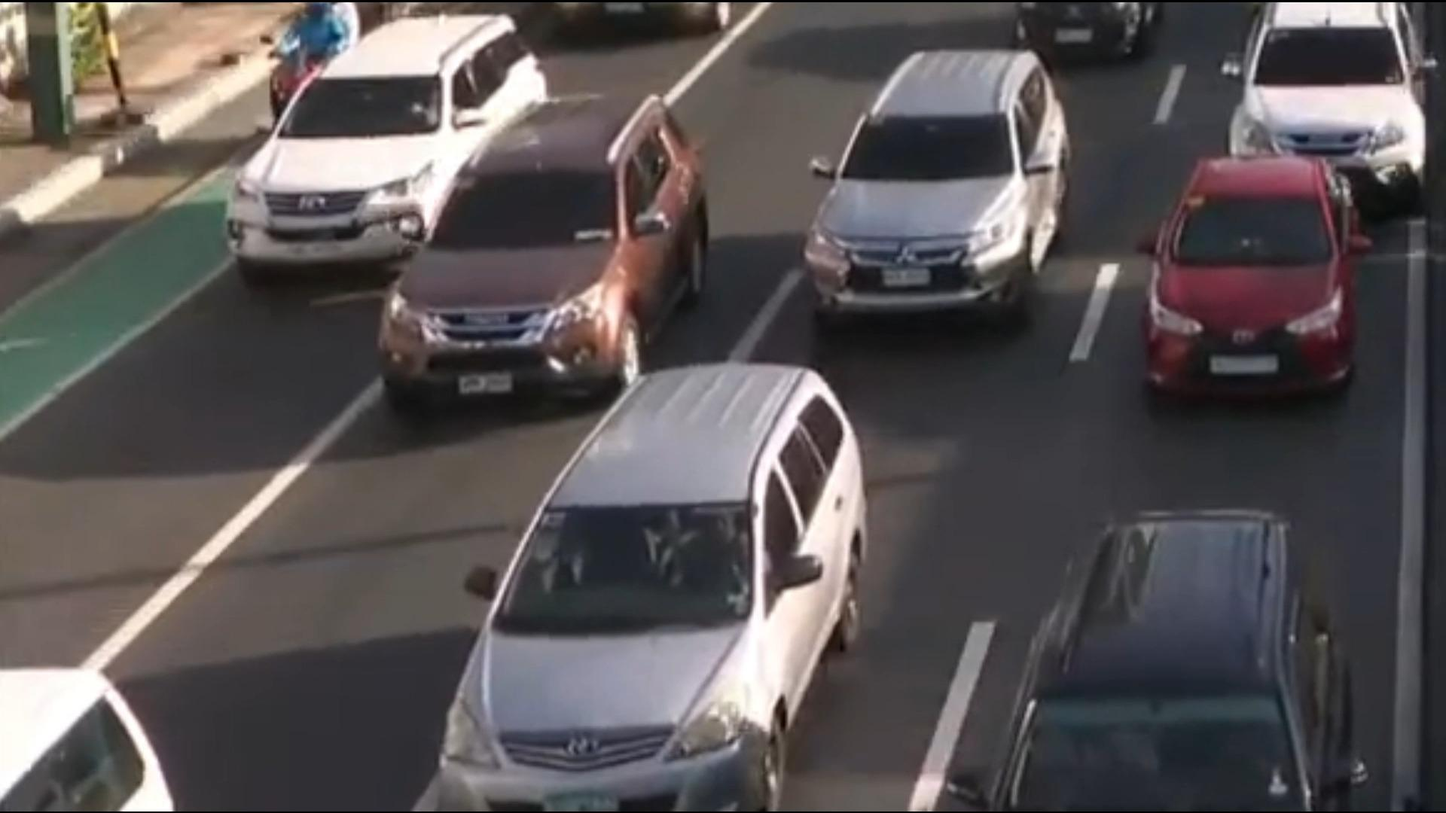Motorcycle: (230, 0, 368, 149)
SUV: (345, 360, 923, 813), (928, 482, 1401, 813), (289, 87, 714, 436), (732, 32, 1138, 361), (167, 0, 571, 299), (1194, 0, 1441, 209)
Sedan: (1111, 130, 1365, 433)
